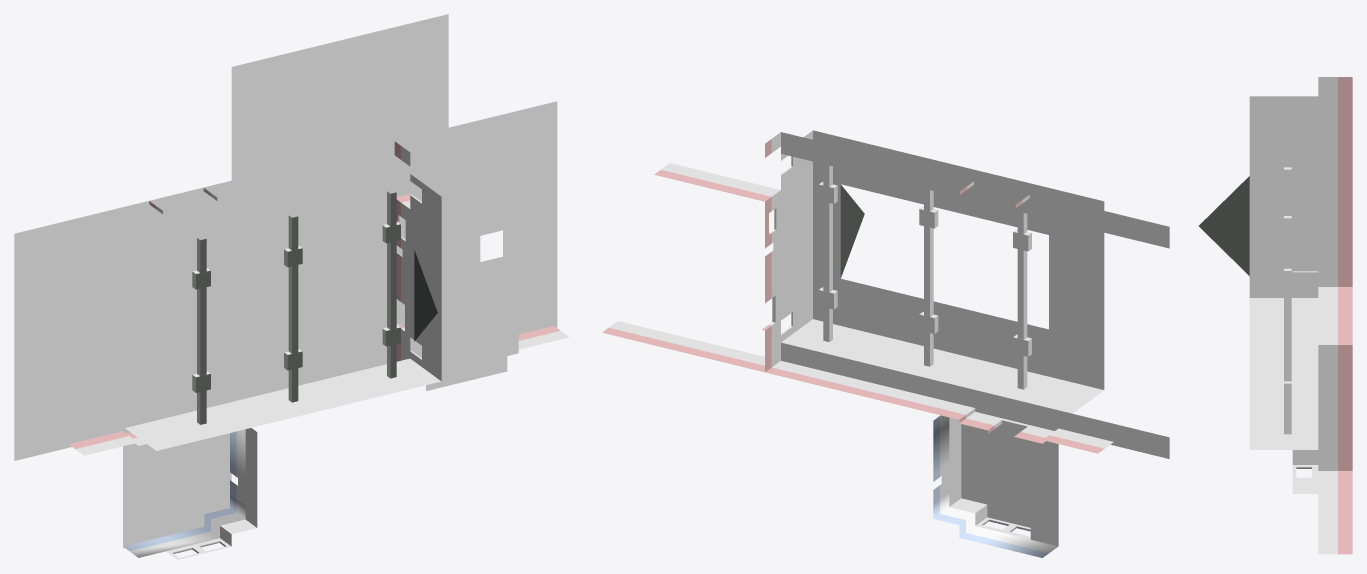
File: warehouse_all.gltf
3 renders of one model, left to right at view 1: azimuth 30°, elevation 25°; view 2: azimuth 150°, elevation 25°; view 3: azimuth 270°, elevation 25°, orthographic. The views are drawn at different scales.
Visible parts, largest first — view 1: g_int_ground; view 2: g_int_ground; view 3: g_int_ground.
Part boxes in pixels (box(x1,y1,x2,y2)): g_int_ground: box(14, 14, 569, 559); g_int_ground: box(602, 130, 1169, 557); g_int_ground: box(1199, 77, 1352, 554).
Size of the model in its own units: 80 by 64 by 18.
